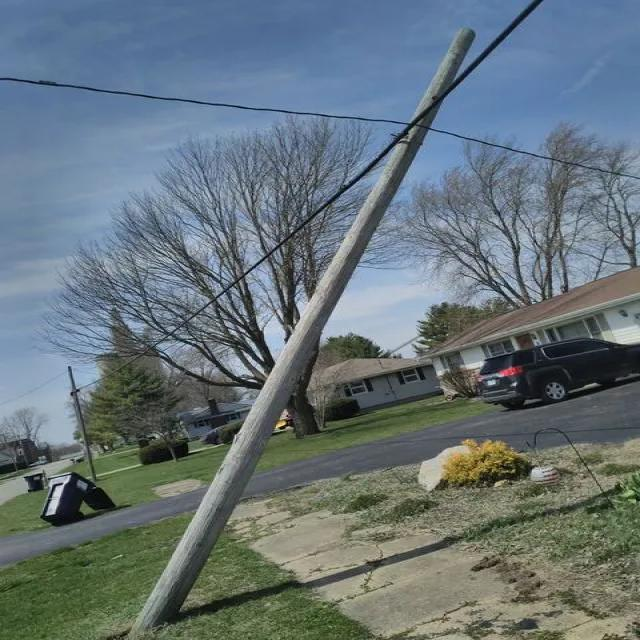Inclined Pole: (118, 29, 485, 639)
